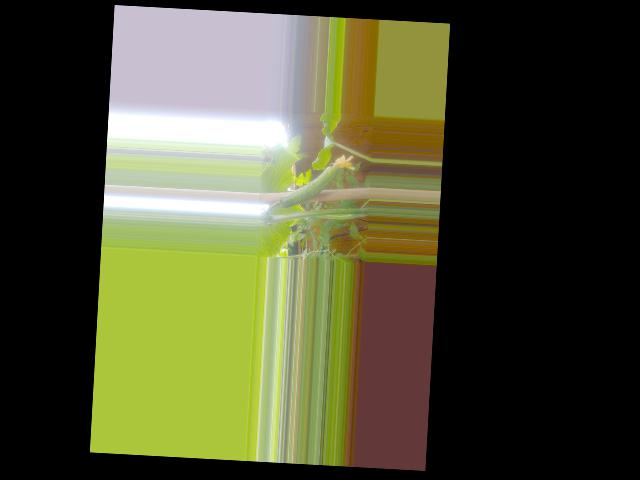cucumber: (279, 150, 356, 211)
